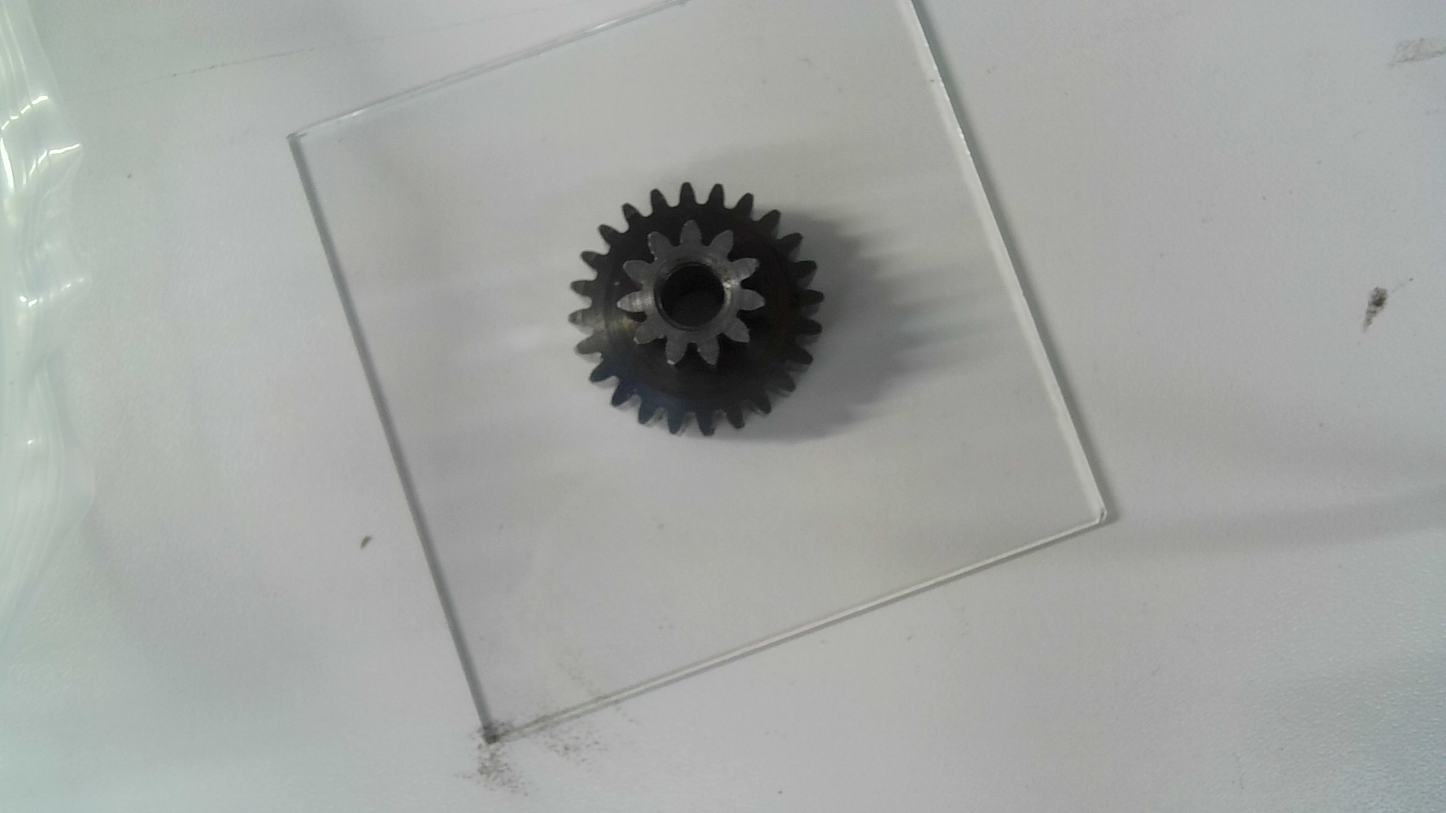gear: (564, 177, 831, 442)
